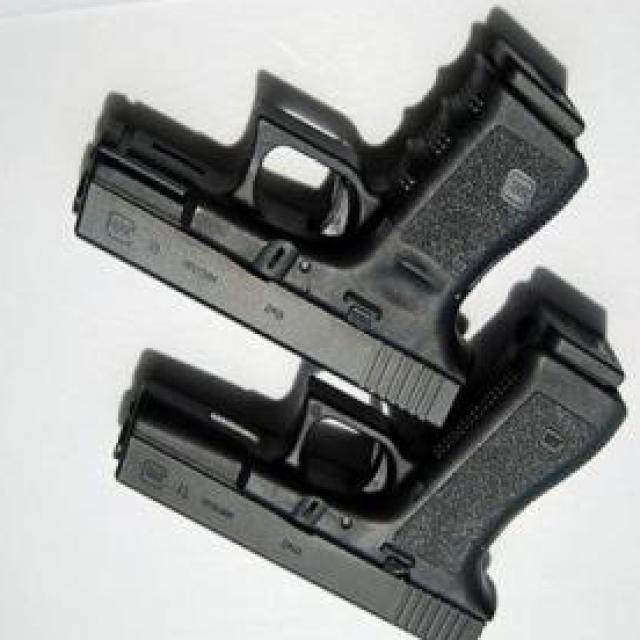pistol: (74, 16, 595, 432), (111, 301, 622, 640)
